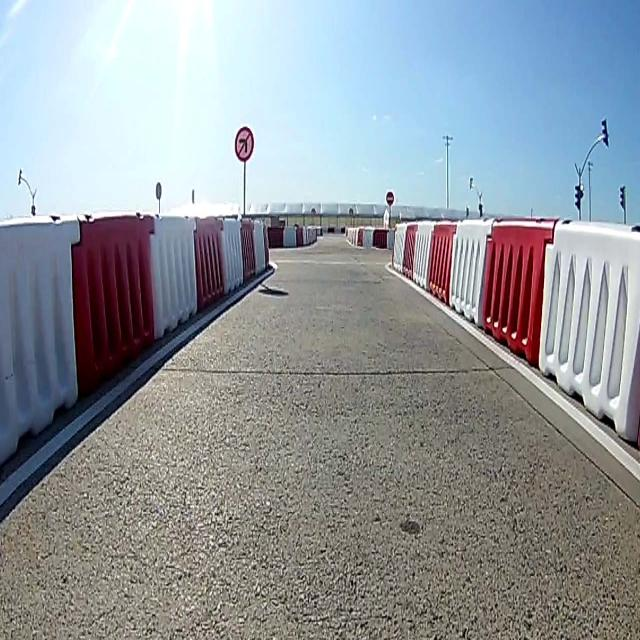girisyok: (386, 190, 395, 207)
soladonulmez: (236, 125, 253, 162)
